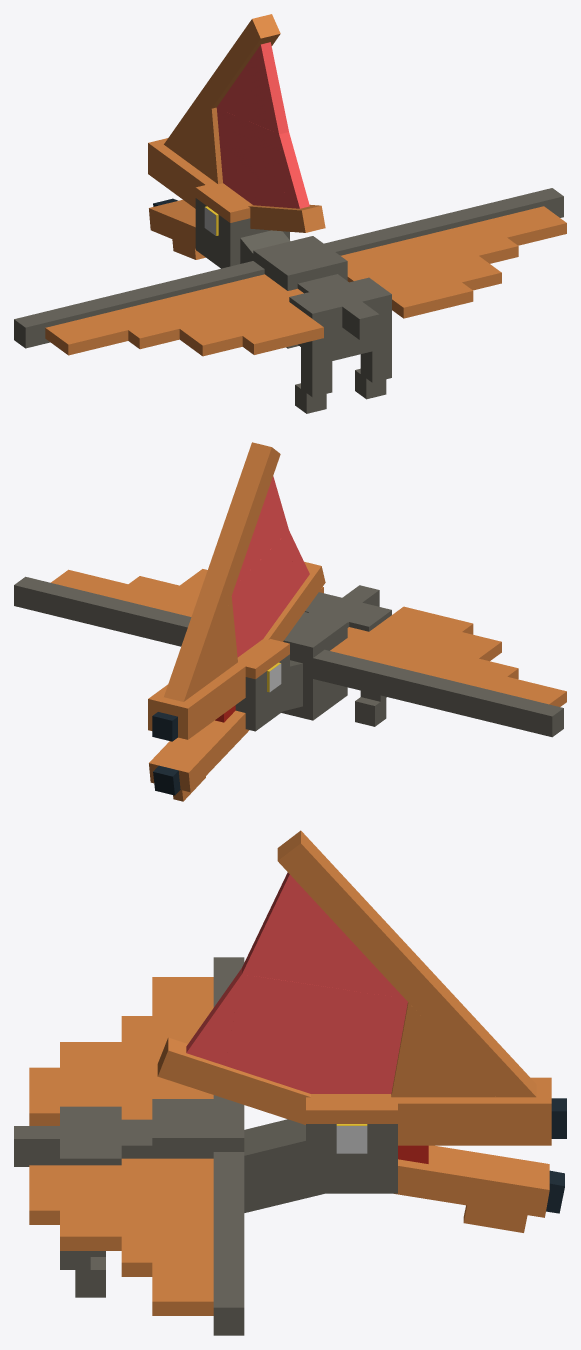
Rendered from tupandactylus.obj.
The picture shows the model from 3 angles, top to bottom: view 1: azimuth 30°, elevation 25°; view 2: azimuth 150°, elevation 25°; view 3: azimuth 270°, elevation 25°; orthographic projection. The views are drawn at different scales.
Parts seen in each view (by area): view 1: Head, LeftUpperArm, RightUpperArm, UpperTorso, LeftUpperLeg, RightUpperLeg, LowerTorso, Color1; view 2: Head, LeftUpperArm, RightUpperArm, UpperTorso, LeftUpperLeg, LowerTorso, Color1; view 3: Head, RightUpperArm, LeftUpperArm, UpperTorso, RightUpperLeg, LowerTorso, Color1, LeftUpperLeg, Head_decal1.
Boxes of the visible parts, x1,y1,x2,y2 form: Head: (148, 14, 325, 268); LeftUpperArm: (14, 261, 323, 356); RightUpperArm: (324, 188, 566, 318); UpperTorso: (253, 236, 347, 348); LeftUpperLeg: (289, 292, 332, 413); RightUpperLeg: (349, 277, 391, 399); LowerTorso: (297, 274, 372, 360); Color1: (342, 302, 379, 339); Head: (148, 442, 325, 801); LeftUpperArm: (313, 606, 566, 737); RightUpperArm: (14, 569, 323, 646); UpperTorso: (281, 612, 347, 720); LeftUpperLeg: (349, 605, 391, 726); LowerTorso: (309, 595, 371, 627); Color1: (342, 585, 379, 606); Head: (157, 830, 566, 1232); RightUpperArm: (29, 1152, 244, 1335); LeftUpperArm: (29, 957, 244, 1125); UpperTorso: (152, 1099, 244, 1158); RightUpperLeg: (60, 1145, 121, 1297); LowerTorso: (60, 1119, 152, 1158); Color1: (14, 1126, 59, 1166); LeftUpperLeg: (60, 1106, 121, 1256); Head_decal1: (336, 1126, 367, 1153).
Bounding box in the file's own units: 13.5 × 7.81 × 9.
